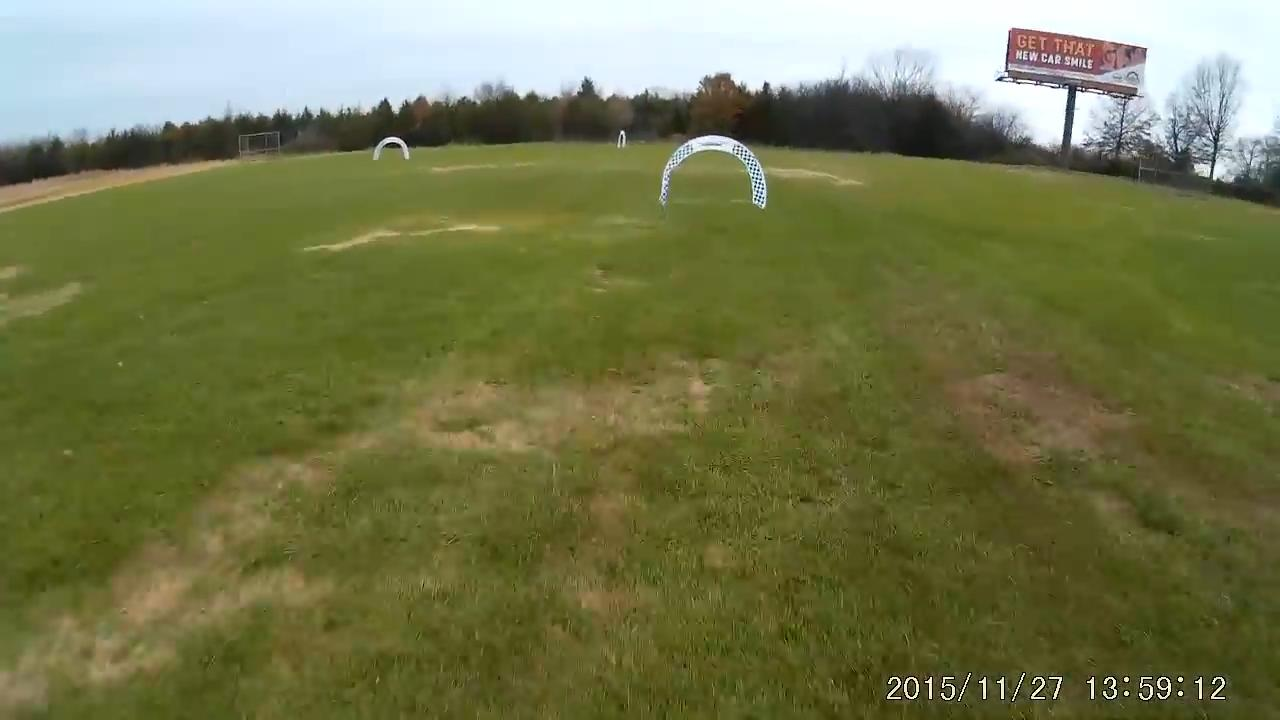gate: (660, 133, 769, 210)
